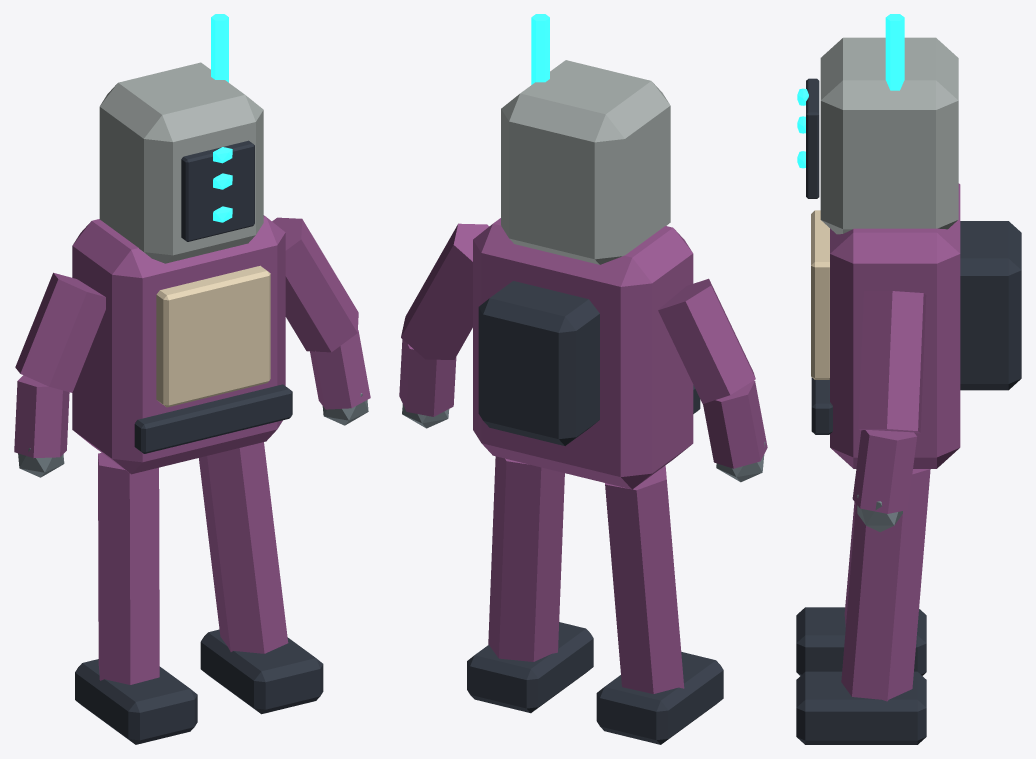
The model's file is npcs_022_seed11.glb.
3 views of the same model, side by side, from view 1: azimuth 30°, elevation 25°; view 2: azimuth 150°, elevation 25°; view 3: azimuth 270°, elevation 25° (orthographic). The views are drawn at different scales.
Visible parts, largest first — view 1: npcs_022_seed11; view 2: npcs_022_seed11; view 3: npcs_022_seed11.
Boxes of the visible parts, x1=… form: npcs_022_seed11: x1=14, y1=14, x2=370, y2=744; npcs_022_seed11: x1=399, y1=14, x2=767, y2=744; npcs_022_seed11: x1=796, y1=14, x2=1021, y2=744.
Size of the model in its own units: 1.13 by 2.06 by 0.6019.
